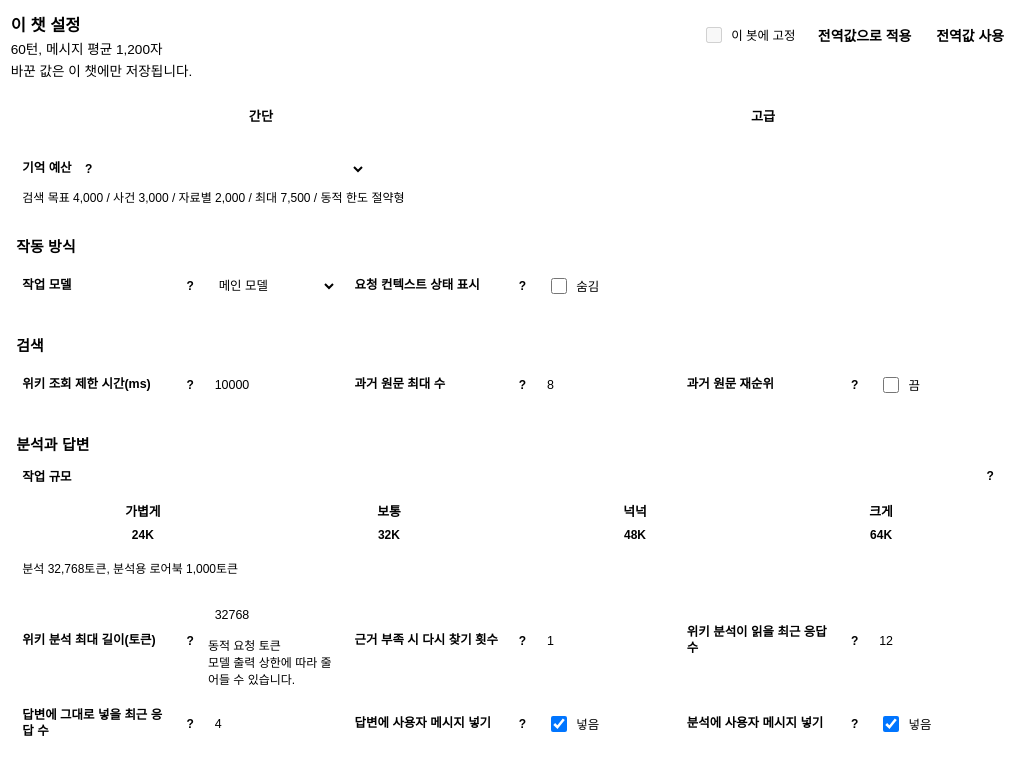
it: RisuBardCurrentChatSettings › bardwiki-response-exclude-user is checked when user messages are included and stores the inverted flag
The width and height of the screenshot is (1024, 759).
Expected: the text "넣음" next to "답변에 사용자 메시지 넣기" is shown, [576,718,599,732]
Click the checkbox labelled "답변에 사용자 메시지 넣기": (559, 724) [551,716,567,732]
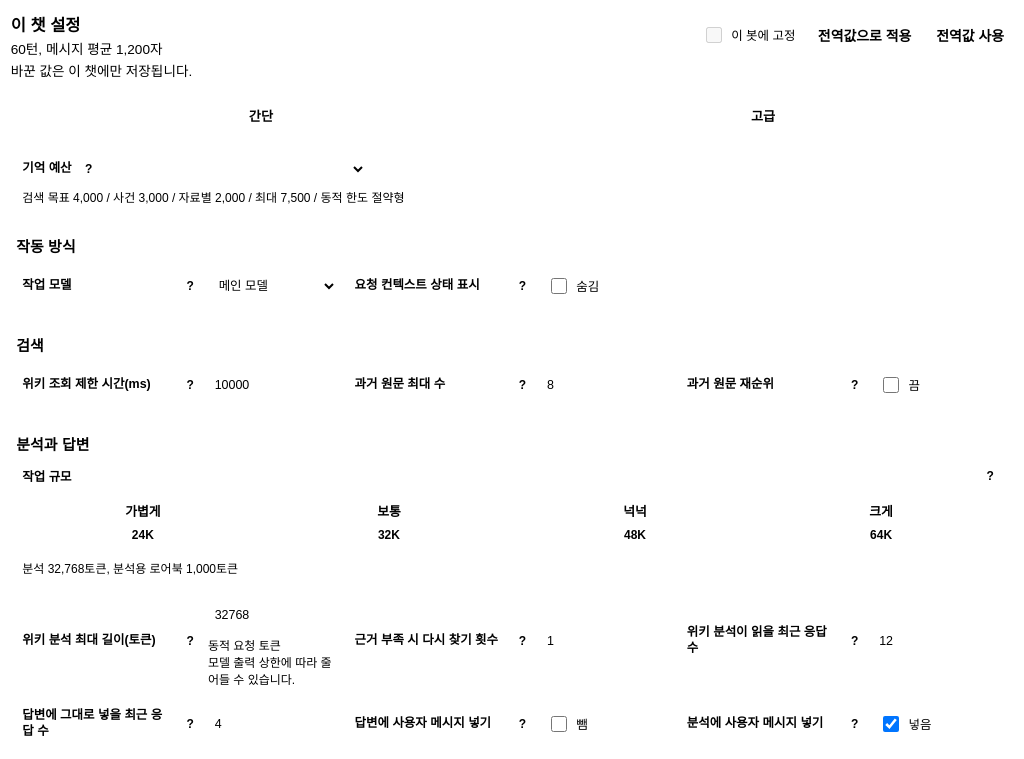
Now the text "뺌" is shown, box [576,715,588,733]
Click the checkbox labelled "답변에 사용자 메시지 넣기": (559, 724) [551,716,567,732]
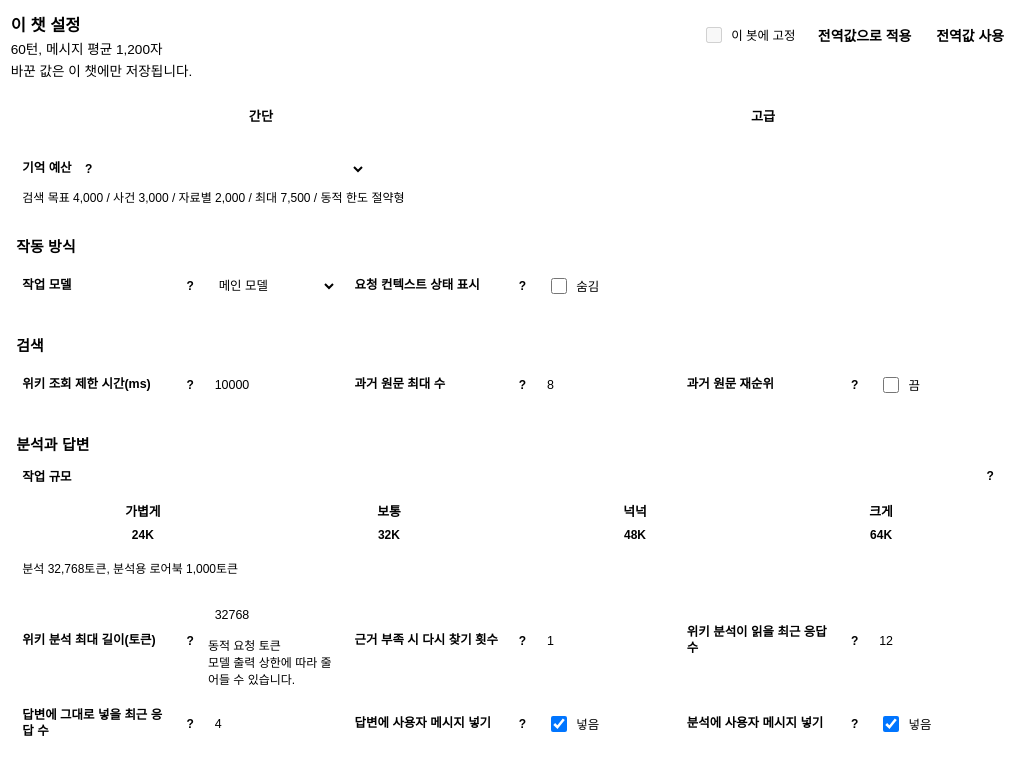
Now the text "넣음" next to "답변에 사용자 메시지 넣기" is shown, box [576,718,599,732]
